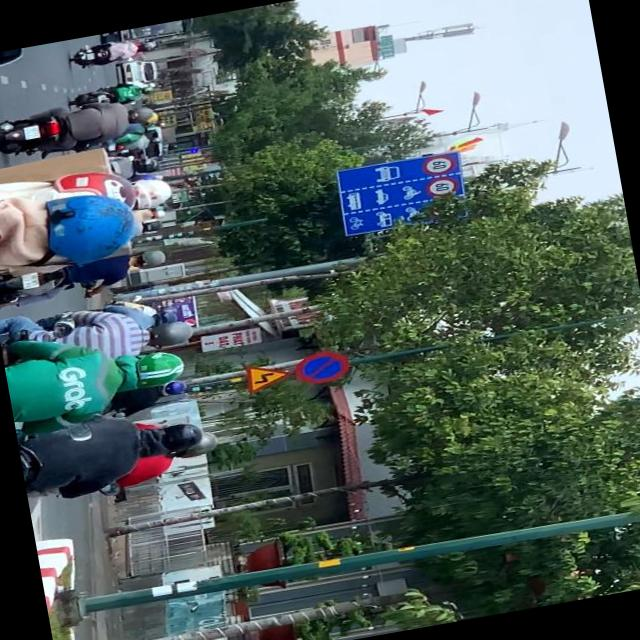P-131a: (294, 346, 348, 386)
W-202a: (246, 361, 287, 389)
